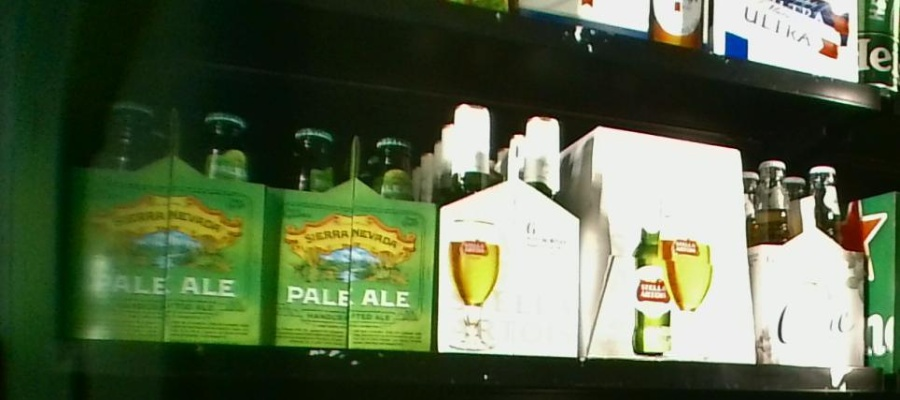bottle: (73, 104, 267, 351), (576, 119, 750, 368), (269, 126, 437, 348), (437, 100, 578, 358), (751, 161, 866, 364)
